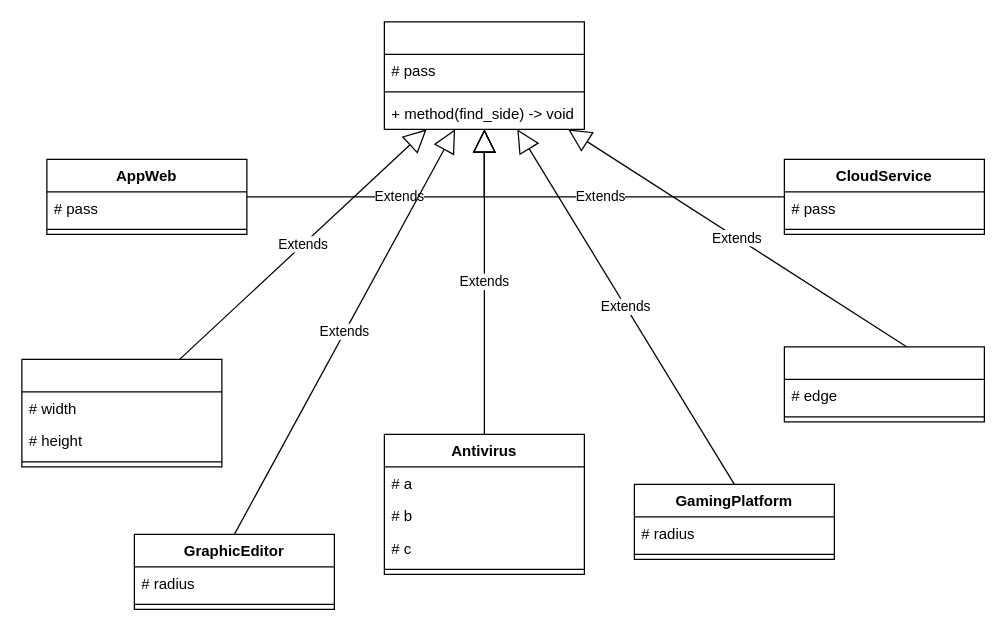
Image size: 1006x631. Some labels were removed from this diagram. The box of each missing label's shape, as (x1, y1, x2, y2) in pixels:
AppMobile: (21, 358, 222, 467)
ConsoleGame: (783, 346, 984, 422)
Program: (383, 21, 584, 129)
